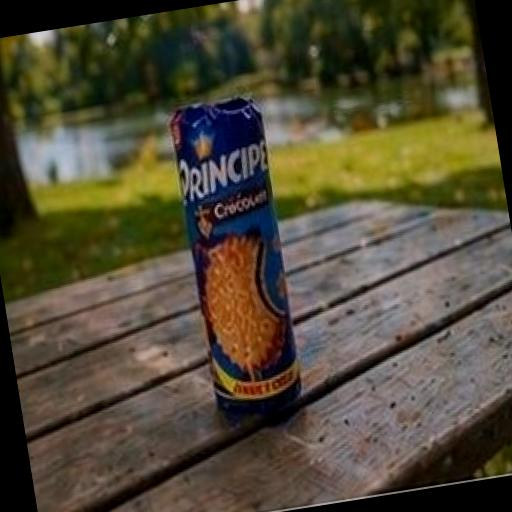prince: (118, 43, 440, 508)
